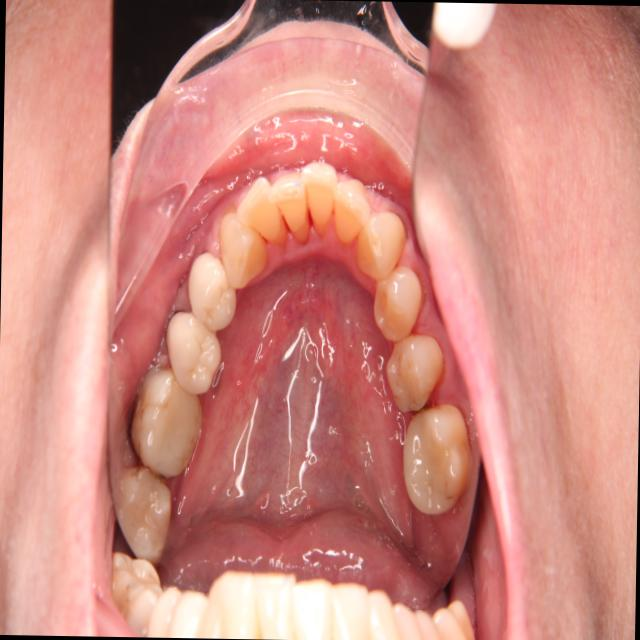tooth: (127, 357, 213, 494), (397, 398, 483, 524), (157, 304, 234, 412), (377, 327, 454, 423), (117, 454, 179, 569), (217, 199, 277, 302), (364, 251, 428, 346), (226, 168, 294, 253), (181, 247, 242, 340), (263, 158, 318, 258), (353, 198, 411, 290), (328, 166, 377, 263), (295, 143, 343, 239)
